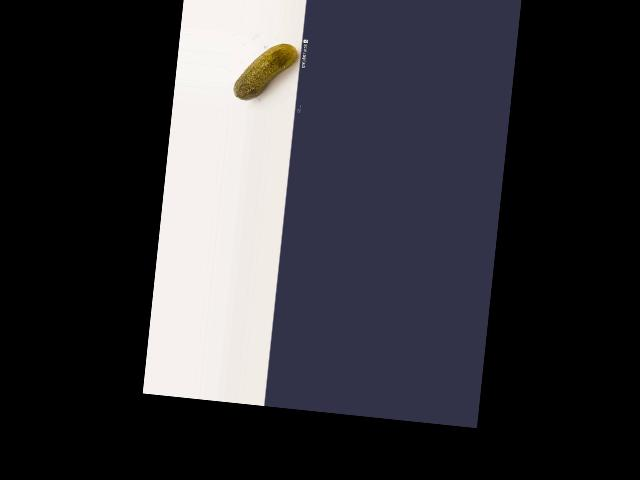cucumber: (233, 38, 298, 105)
